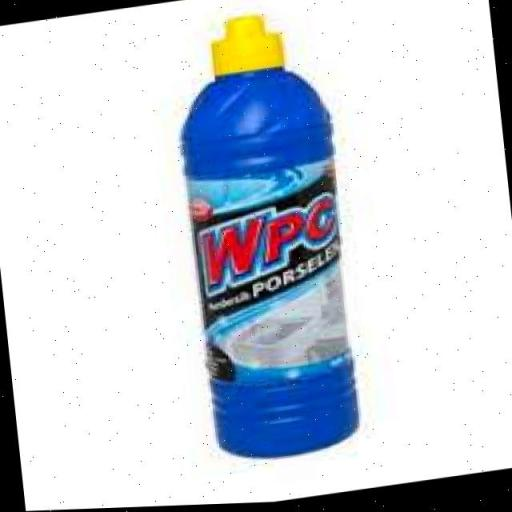plastic: (136, 0, 388, 483)
